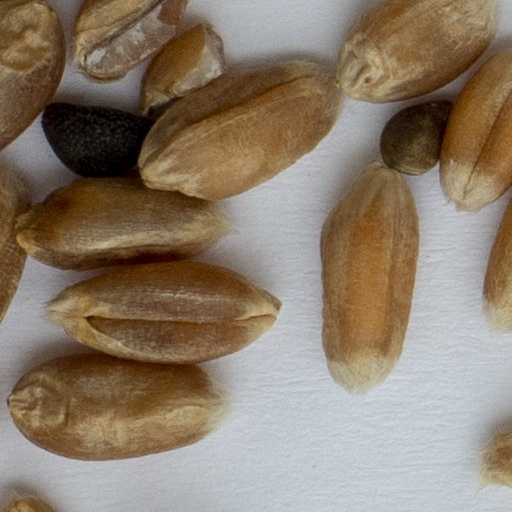Wheat-grain-damaged-poly: (68, 0, 190, 83), (138, 25, 224, 113)
